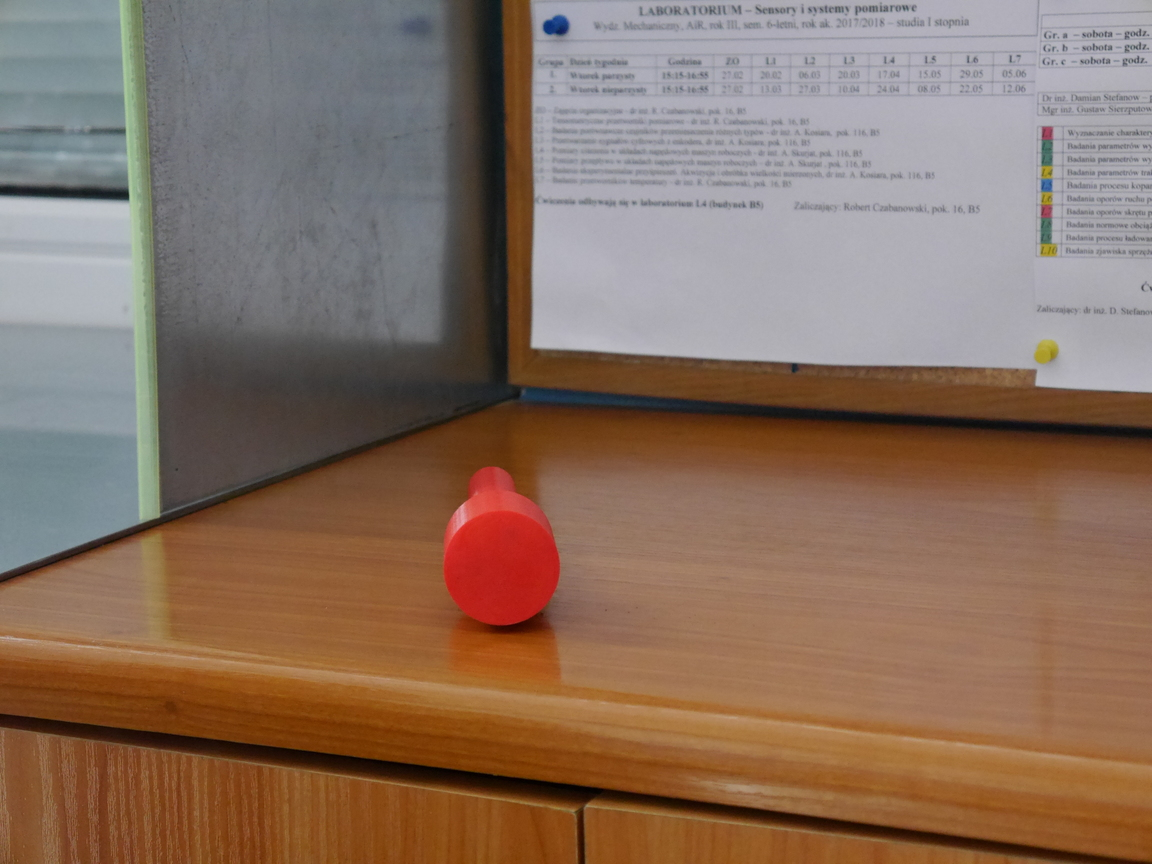cargo_g: (441, 467, 559, 630)
